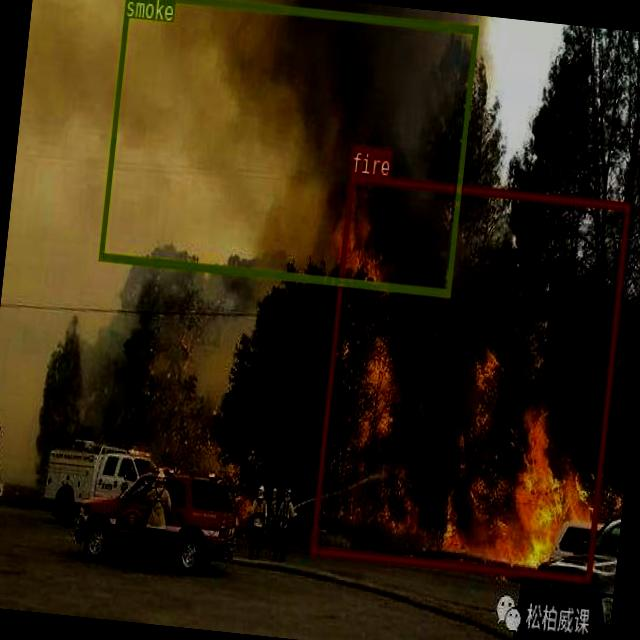fire: (309, 172, 629, 582)
smoke: (98, 0, 477, 294)
